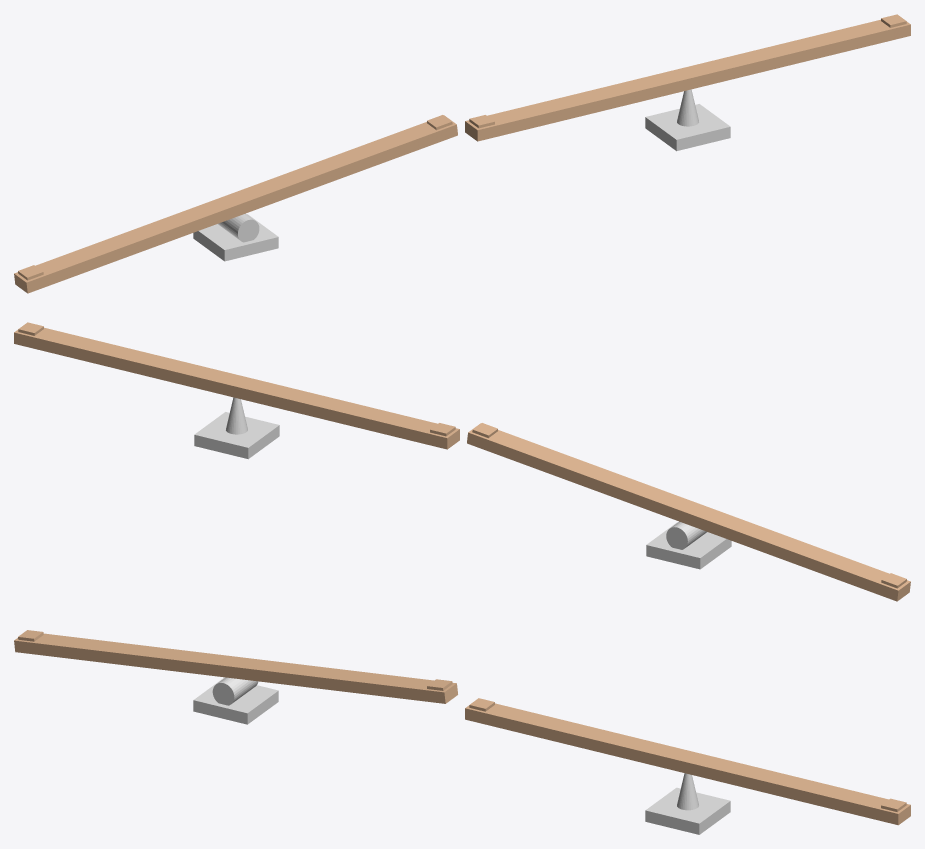
Rendered from seesaw.fbx.
3 renders of one model, top to bottom at view 1: azimuth 30°, elevation 25°; view 2: azimuth 150°, elevation 25°; view 3: azimuth 330°, elevation 25°, orthographic.
Visible parts, largest first — view 1: Cube, Cube.003, Cube.002, Cube.001, Cube.004; view 2: Cube, Cube.003, Cube.002, Cube.001, Cube.004; view 3: Cube.003, Cube, Cube.002, Cube.001, Cube.004.
Boxes of the visible parts, left/top/right/bottom form: Cube: left=14, top=115, right=457, bottom=293; Cube.003: left=465, top=14, right=910, bottom=141; Cube.002: left=645, top=89, right=730, bottom=151; Cube.001: left=193, top=214, right=278, bottom=261; Cube.004: left=218, top=213, right=259, bottom=242; Cube: left=467, top=423, right=910, bottom=601; Cube.003: left=14, top=322, right=459, bottom=449; Cube.002: left=194, top=397, right=279, bottom=459; Cube.001: left=646, top=522, right=731, bottom=569; Cube.004: left=666, top=521, right=706, bottom=549; Cube.003: left=465, top=698, right=910, bottom=825; Cube: left=14, top=630, right=457, bottom=703; Cube.002: left=645, top=773, right=730, bottom=834; Cube.001: left=193, top=677, right=278, bottom=724; Cube.004: left=212, top=677, right=258, bottom=705.
Bounding box in the file's own units: 1633 × 130 × 100.
